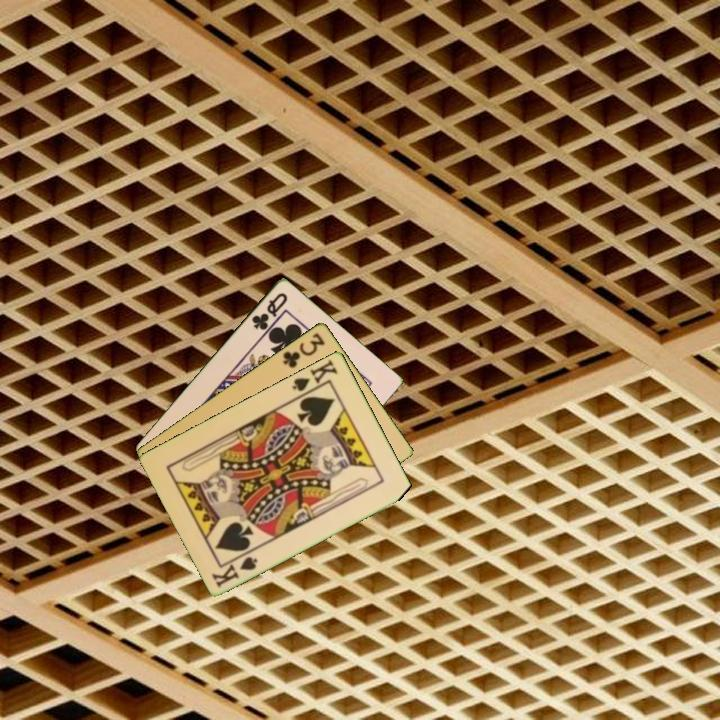3c: (279, 329, 328, 371)
Ks: (208, 552, 261, 590), (289, 356, 340, 394)
Qc: (248, 289, 291, 333)
